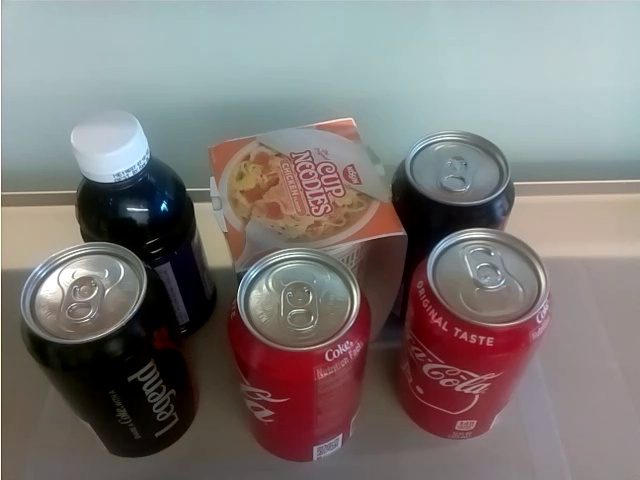cocacola: (20, 240, 199, 459), (220, 246, 369, 465), (402, 226, 552, 443), (392, 129, 519, 226)
juice: (70, 108, 217, 335)
noodles: (203, 114, 403, 334)
